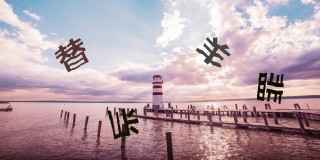当: (107, 108, 140, 138)
替: (55, 37, 90, 72)
罪: (257, 70, 284, 104)
羊: (195, 36, 231, 68)
